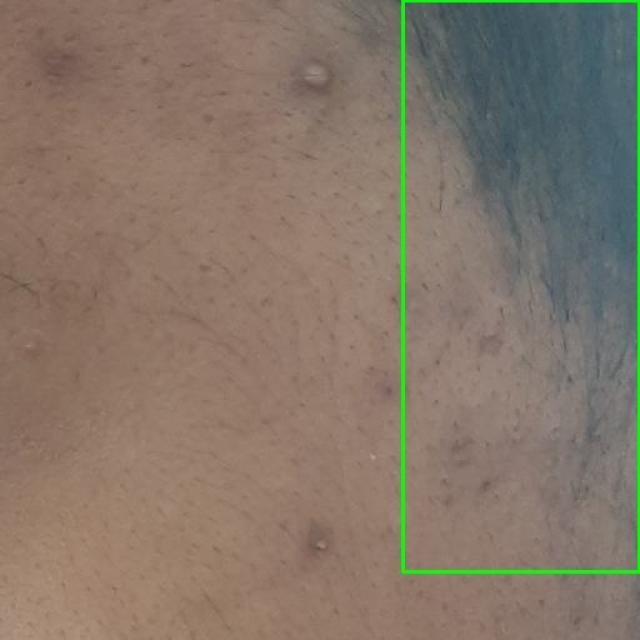Seborrheic Dermatitis: (402, 0, 639, 571)
